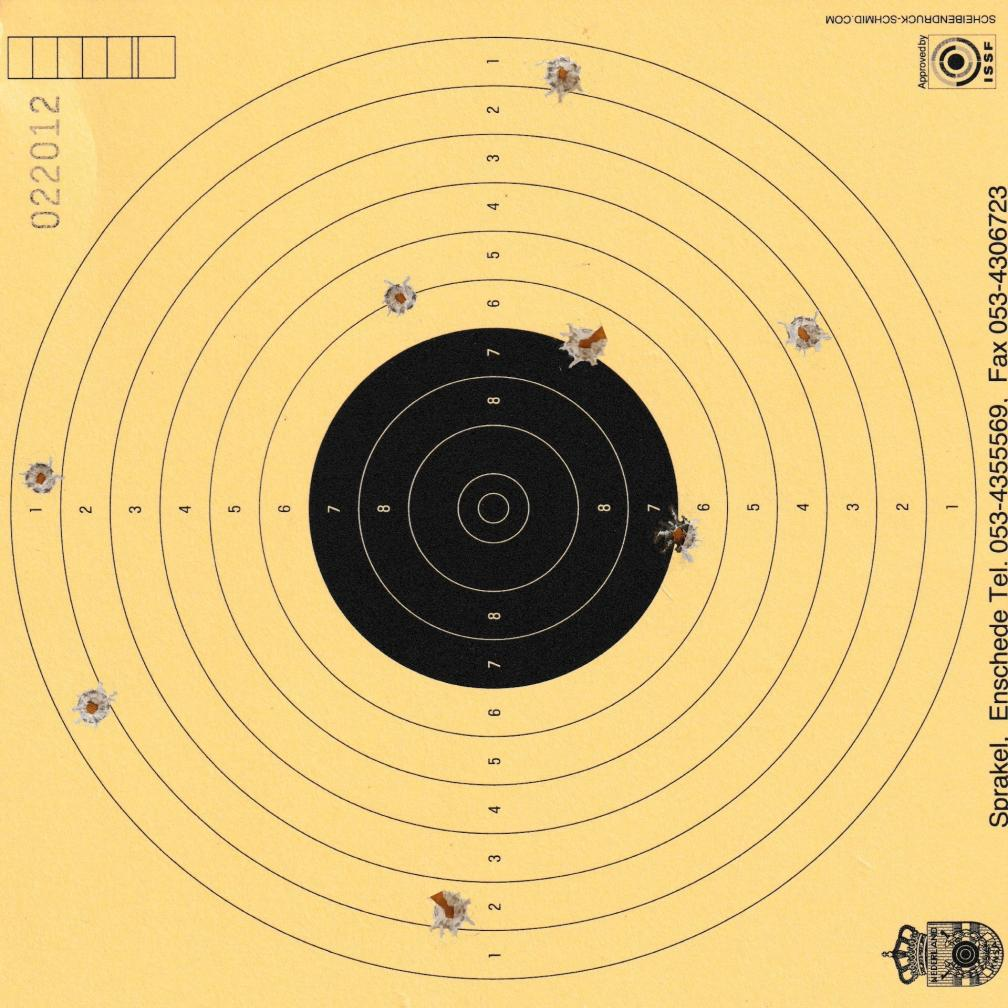2: (419, 888, 478, 943), (67, 679, 121, 730), (540, 53, 588, 104), (16, 455, 66, 501)
3: (774, 306, 838, 359)
6: (379, 276, 420, 318)
7: (552, 317, 612, 373), (649, 507, 705, 563)
Target: (7, 31, 982, 984)
black_contour: (306, 327, 679, 688)
